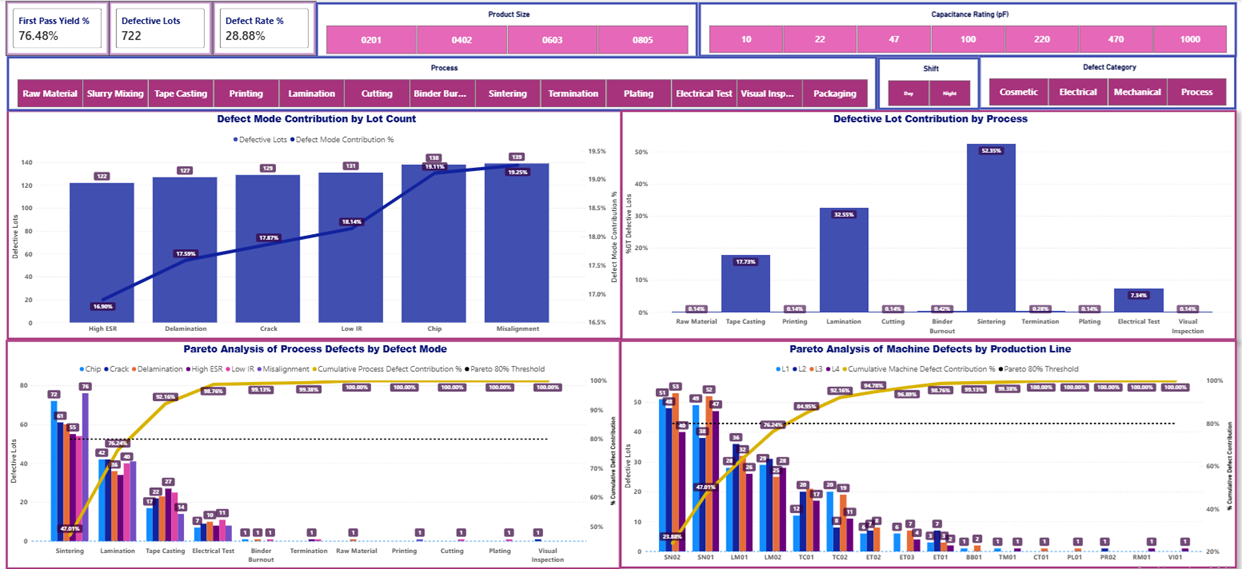

Layout of this report page (visuals, bound fields, positions):
{"tool":"powerbi","page":{"name":"Yield & Defect Analysis","canvas":[3050,1400],"ordinal":1},"visuals":[{"type":"cardVisual","fields":{"Data":["mlcc_manufacturing fact_manufacturing.Defective Lots"]},"box":[272,6,250,132],"z":3000},{"type":"cardVisual","fields":{"Data":["mlcc_manufacturing fact_manufacturing.Defect Rate %"]},"box":[522,6,250,132],"z":4000},{"type":"cardVisual","fields":{"Data":["mlcc_manufacturing fact_manufacturing.First Pass Yield %"]},"box":[22,4,250,132],"z":6000},{"type":"lineStackedColumnComboChart","title":"Defect Mode Contribution by Lot Count","fields":{"Category":["mlcc_manufacturing fact_manufacturing.Defect_Mode"],"Y":["mlcc_manufacturing fact_manufacturing.Defective Lots"],"Y2":["mlcc_manufacturing fact_manufacturing.Defect Contribution %"]},"box":[23.6,269.5,1489.1,555.9],"z":7000},{"type":"slicer","title":"Product Size","fields":{"Values":["mlcc_manufacturing dim_product.Product_Size"]},"box":[772,8,925,135],"z":8000},{"type":"slicer","title":"Capacitance Rating (pF)","fields":{"Values":["mlcc_manufacturing dim_product.Capacitance_Rating_pF"]},"box":[1697.5,7.5,1302.5,132.5],"z":9000},{"type":"slicer","title":"Process","fields":{"Values":["mlcc_manufacturing dim_process.Process"]},"box":[23.3,136.7,2106.7,133.3],"z":10000},{"type":"clusteredColumnChart","title":"Defective Lot Contribution by Process","fields":{"Category":["mlcc_manufacturing dim_process.Process"],"Y":["mlcc_manufacturing fact_manufacturing.Defective Lots"]},"box":[1509.5,269,1490,557.5],"z":11000},{"type":"slicer","title":"Defect Category","fields":{"Values":["mlcc_manufacturing fact_manufacturing.Defect_Category"]},"box":[2376,136,624,132],"z":13000},{"type":"slicer","title":"Shift","fields":{"Values":["mlcc_manufacturing fact_manufacturing.Shift"]},"box":[2130,140,248.3,128.3],"z":15000},{"type":"lineClusteredColumnComboChart","title":"Pareto Analysis of Process Defects by Defect Mode","fields":{"Category":["mlcc_manufacturing dim_process.Process"],"Series":["mlcc_manufacturing fact_manufacturing.Defect_Mode"],"Y":["mlcc_manufacturing fact_manufacturing.Defective Lots"],"Y2":["mlcc_manufacturing fact_manufacturing.Cumulative Process Defect Contribution %","mlcc_manufacturing fact_manufacturing.Pareto 80% Threshold"]},"box":[22.5,825,1488,556],"z":16000},{"type":"lineClusteredColumnComboChart","title":"Pareto Analysis of Machine Defects by Production Line","fields":{"Category":["mlcc_manufacturing dim_machine.Machine"],"Series":["mlcc_manufacturing dim_machine.Line"],"Y":["mlcc_manufacturing fact_manufacturing.Defective Lots"],"Y2":["mlcc_manufacturing fact_manufacturing.Cumulative Machine Defect Contribution %","mlcc_manufacturing fact_manufacturing.Pareto 80% Threshold"]},"box":[1506.3,826,1493.7,553.8],"z":17000}]}

Visuals, with their boxes in screenshot pixels (x1, y1, x2, y2), scaled from the page's 3050x1400 canvas onto the 1242x569 screenshot:
cardVisual - mlcc_manufacturing fact_manufacturing.Defective Lots: [left=111, top=2, right=213, bottom=56]
cardVisual - mlcc_manufacturing fact_manufacturing.Defect Rate %: [left=213, top=2, right=314, bottom=56]
cardVisual - mlcc_manufacturing fact_manufacturing.First Pass Yield %: [left=9, top=2, right=111, bottom=55]
"Defect Mode Contribution by Lot Count" lineStackedColumnComboChart: [left=10, top=110, right=616, bottom=335]
"Product Size" slicer: [left=314, top=3, right=691, bottom=58]
"Capacitance Rating (pF)" slicer: [left=691, top=3, right=1222, bottom=57]
"Process" slicer: [left=9, top=56, right=867, bottom=110]
"Defective Lot Contribution by Process" clusteredColumnChart: [left=615, top=109, right=1221, bottom=336]
"Defect Category" slicer: [left=968, top=55, right=1222, bottom=109]
"Shift" slicer: [left=867, top=57, right=968, bottom=109]
"Pareto Analysis of Process Defects by Defect Mode" lineClusteredColumnComboChart: [left=9, top=335, right=615, bottom=561]
"Pareto Analysis of Machine Defects by Production Line" lineClusteredColumnComboChart: [left=613, top=336, right=1222, bottom=561]
